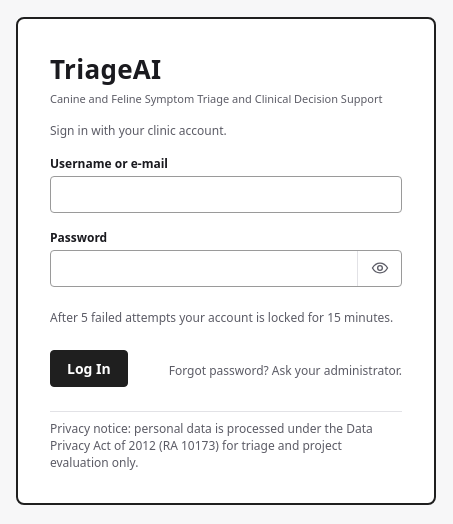
Test: Login failures (SR-03, IR-05) › shows the generic error on a 401, whatever the cause
The image size is (453, 524).
In the field labelled "Username or e-mail": (226, 194) [50,176,402,213], type "intake@triageai.local"
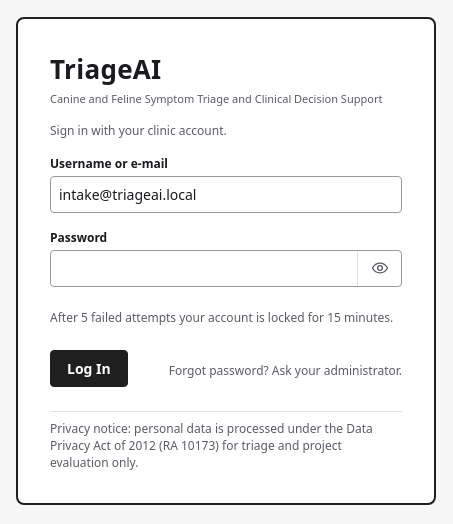
In the password field labelled "Password": (204, 268) [51,251,357,286], type "ChangeMe!2026"
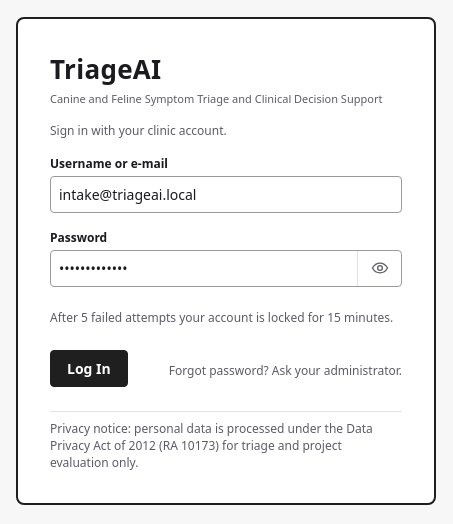
Click the button "Log In": (89, 369) [50,350,128,387]
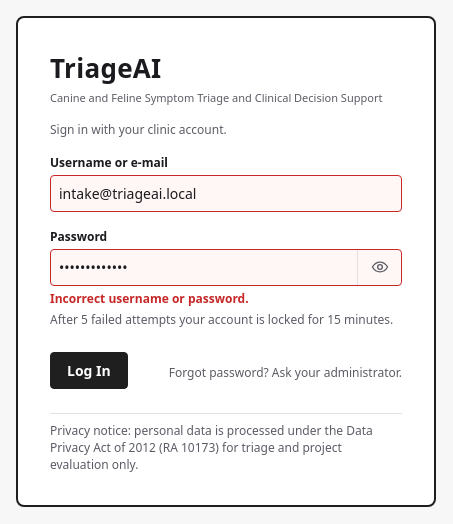
Expected: the message reads "Incorrect username or password.", [50,290,249,306]
